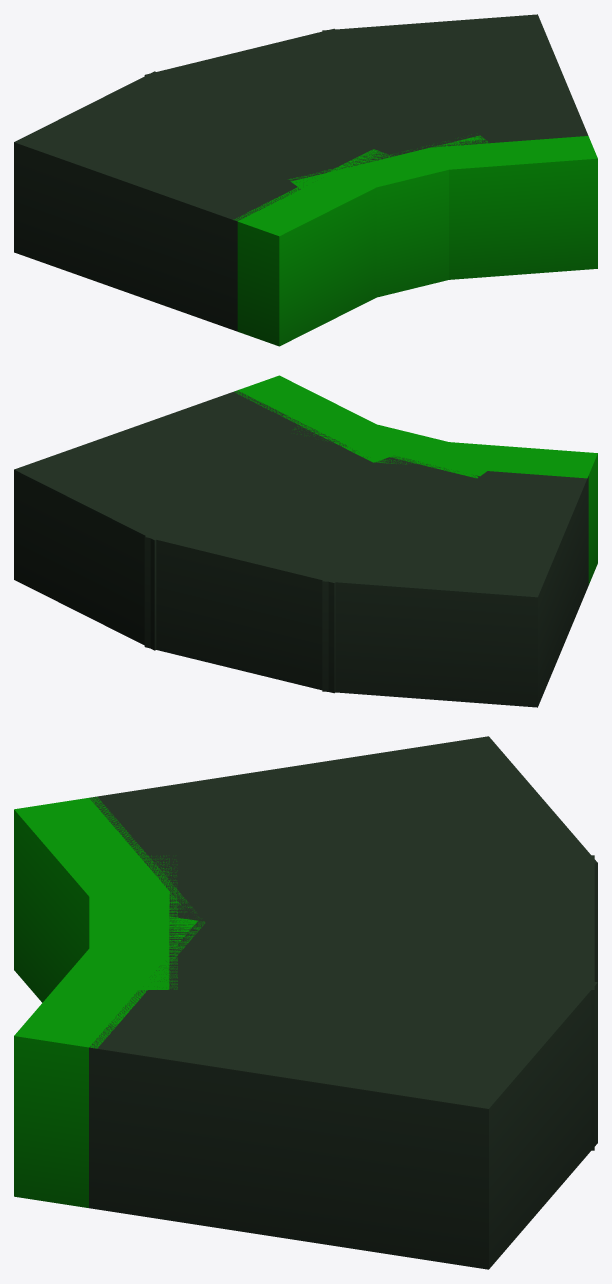
File: uranium-rounds-magazine.glb
3 renders of one model, top to bottom at view 1: azimuth 30°, elevation 25°; view 2: azimuth 150°, elevation 25°; view 3: azimuth 270°, elevation 25°, orthographic. The views are drawn at different scales.
Visible parts, largest first — view 1: uranium-rounds-magazine; view 2: uranium-rounds-magazine; view 3: uranium-rounds-magazine.
Boxes of the visible parts, x1,y1,x2,y2 form: uranium-rounds-magazine: (14, 14, 597, 346); uranium-rounds-magazine: (14, 375, 597, 707); uranium-rounds-magazine: (14, 736, 597, 1269).
Bounding box in the file's own units: 0.2487 × 0.05 × 0.1647.
